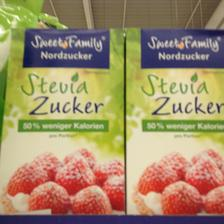Zucker: (0, 27, 124, 213), (122, 25, 223, 214)
